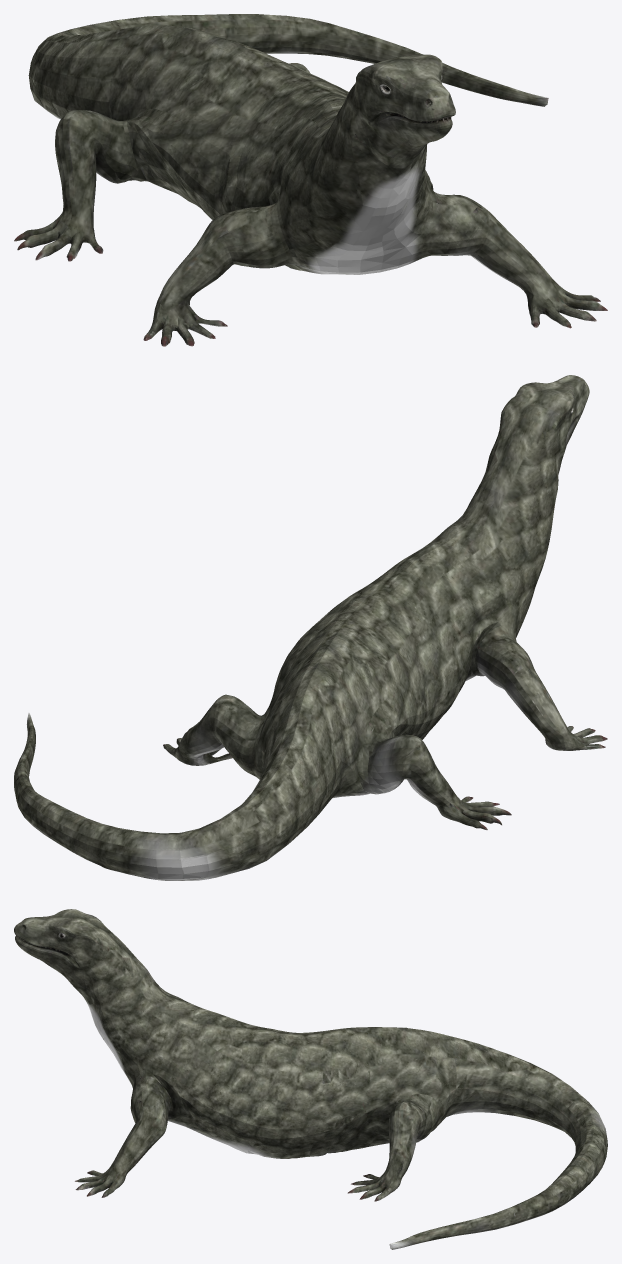
The model's file is MZ4250 - Giant Lizard.glb.
The picture shows the model from 3 angles, top to bottom: view 1: azimuth 30°, elevation 25°; view 2: azimuth 150°, elevation 25°; view 3: azimuth 270°, elevation 25°; orthographic projection. The views are drawn at different scales.
Visible parts, largest first — view 1: default; view 2: default; view 3: default.
Part boxes in pixels (bbox=[...]): default: bbox=[14, 14, 607, 346]; default: bbox=[14, 375, 607, 880]; default: bbox=[14, 909, 607, 1249].
Size of the model in its own units: 1.16 by 0.6286 by 1.61.
Materials: 1 (1 with a texture image).
